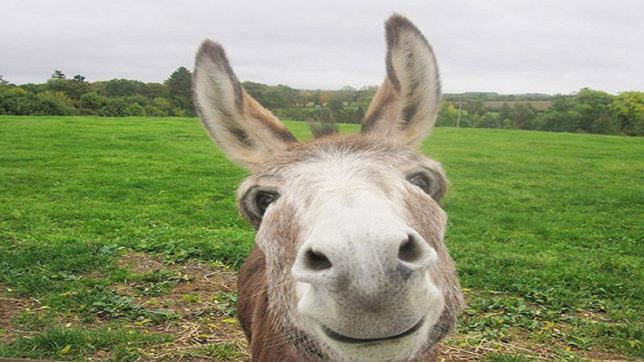donkey: (193, 11, 462, 362)
